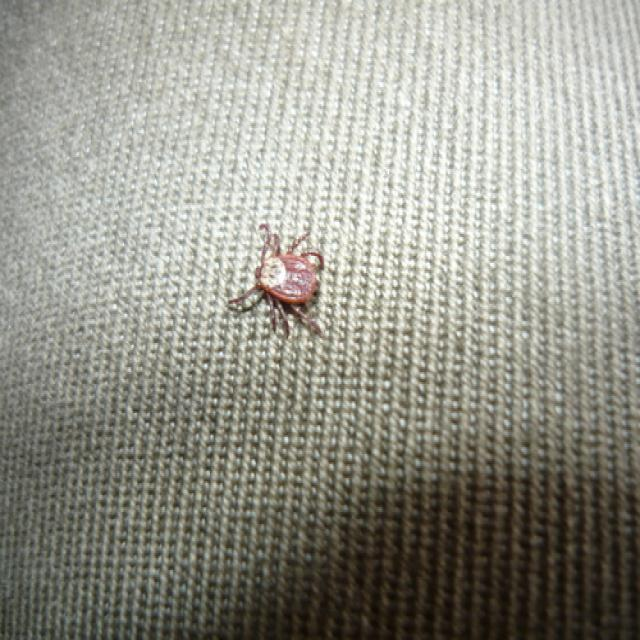Dermacentor Reticulatus-F: (228, 224, 323, 340)
